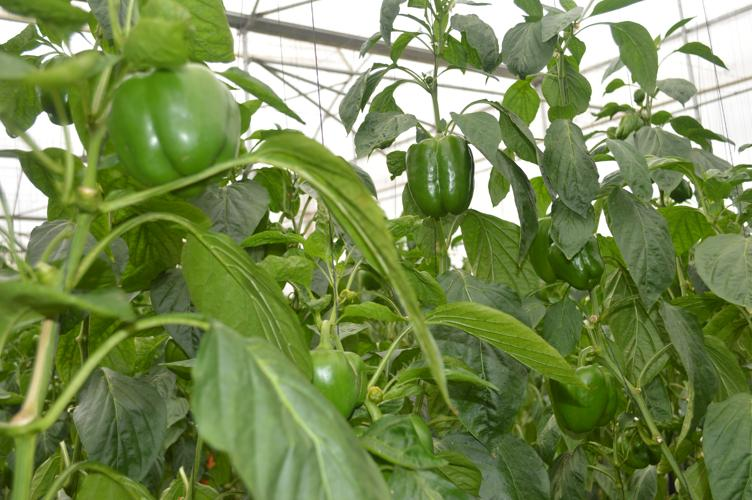BellPepper: (106, 62, 247, 191), (291, 335, 378, 426), (396, 129, 475, 221), (547, 348, 623, 440), (527, 211, 600, 289)
